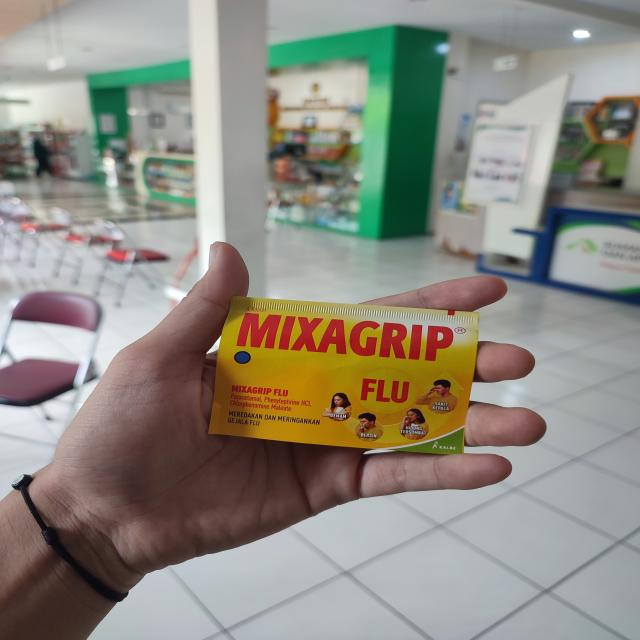B3: (209, 298, 480, 456)
